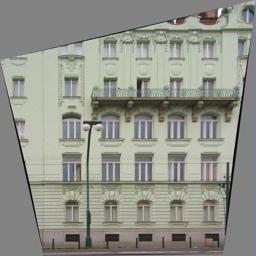building: (87, 29, 235, 250)
